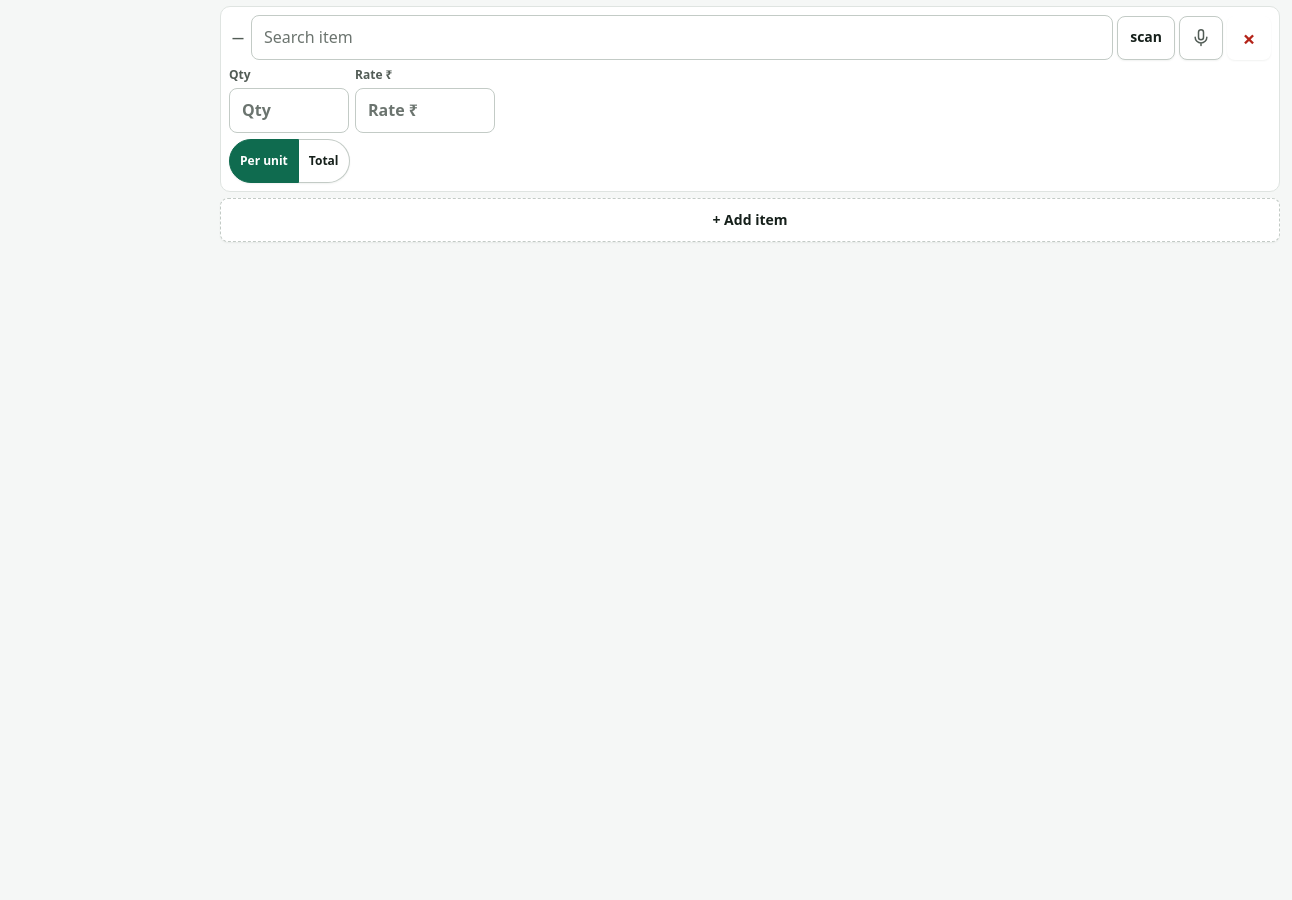
Test: + Create appears only for a name no item has; it opens a labelled form prefilled with that name
Type "item a" into the field with placeholder "Search item".
click(682, 38); type("item a")  # box [251,15,1113,60]
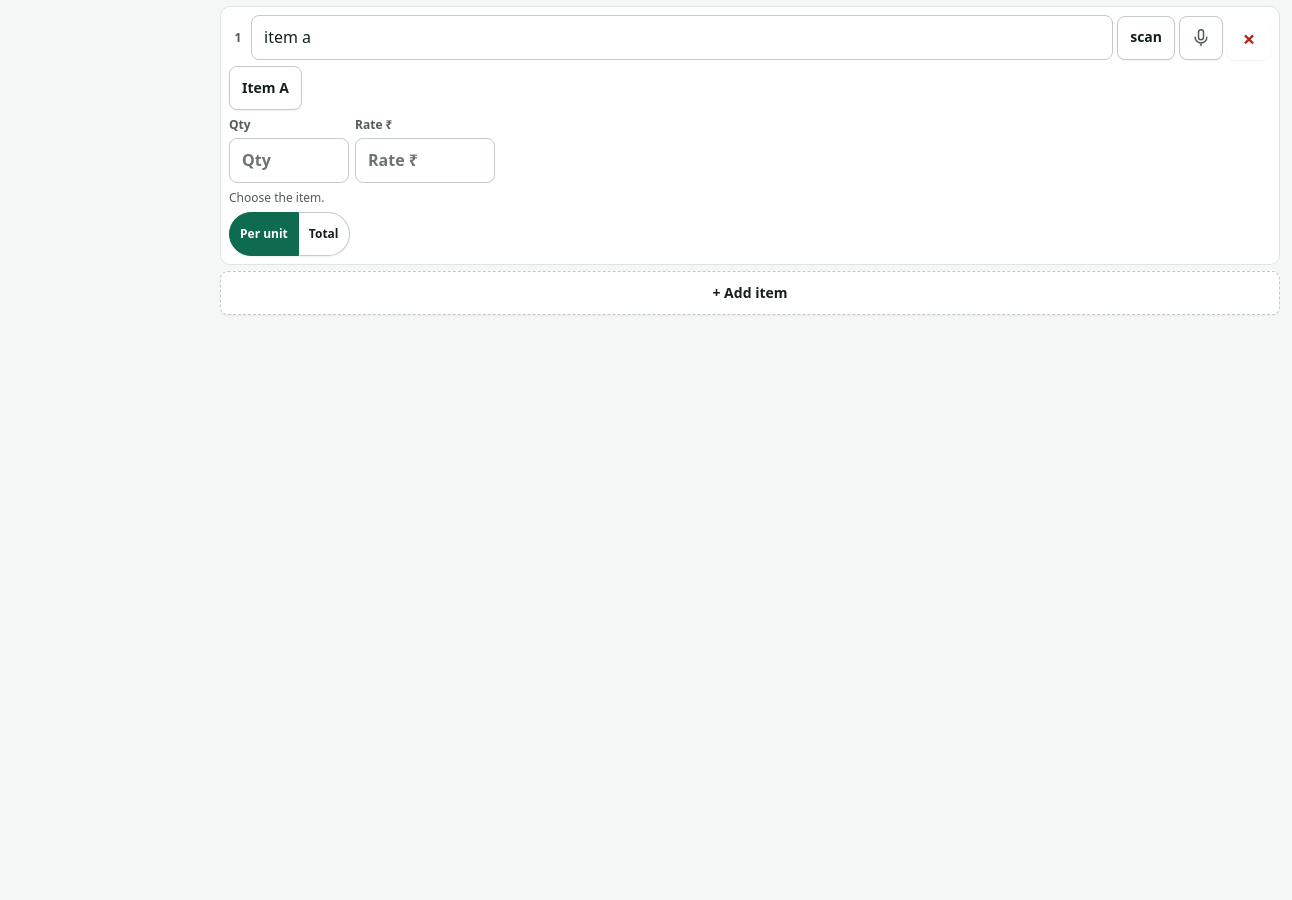
Check: the text "+ Create" is not shown
Replace the text in the field named "Item 1 name" with "Item" at (682, 38), box [251,15,1113,60]
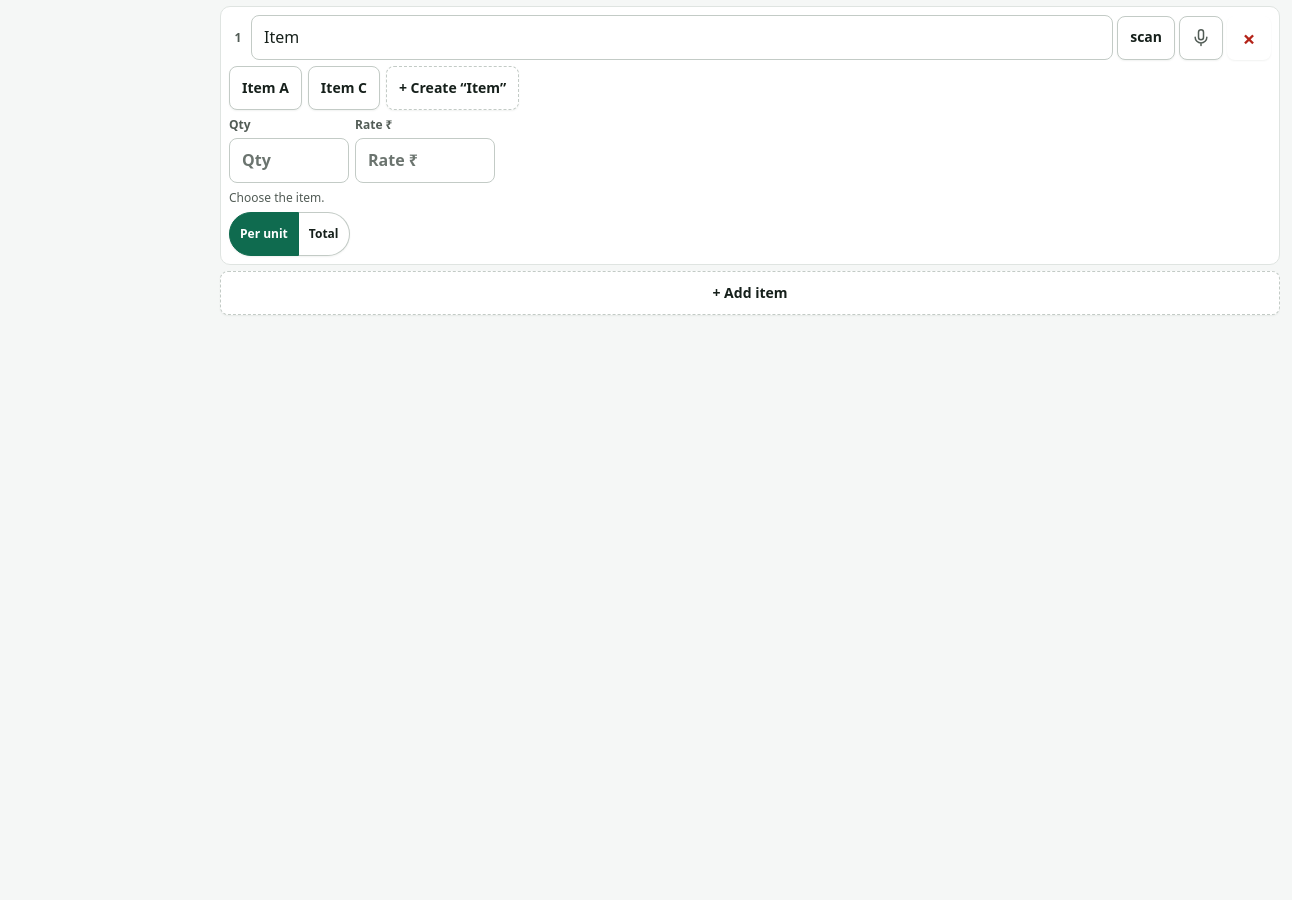
Check: the button "+ Create “Item”" is shown, box [386,66,519,110]
Replace the text in the field named "Item 1 name" with "Basmati 5kg " at (682, 38), box [251,15,1113,60]
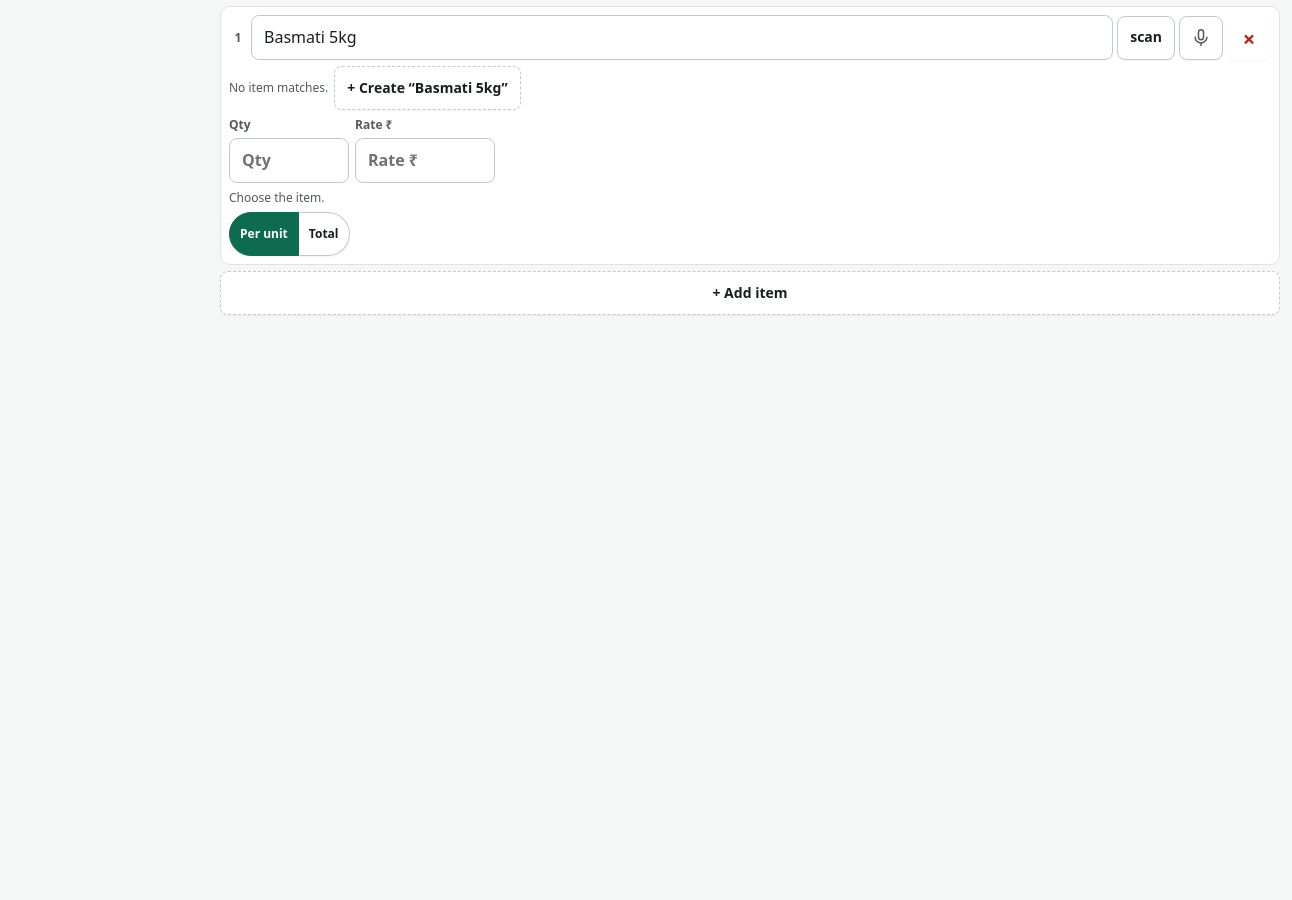
Click the button "+ Create “Basmati 5kg”".
click(427, 88)  # box [334,66,521,110]
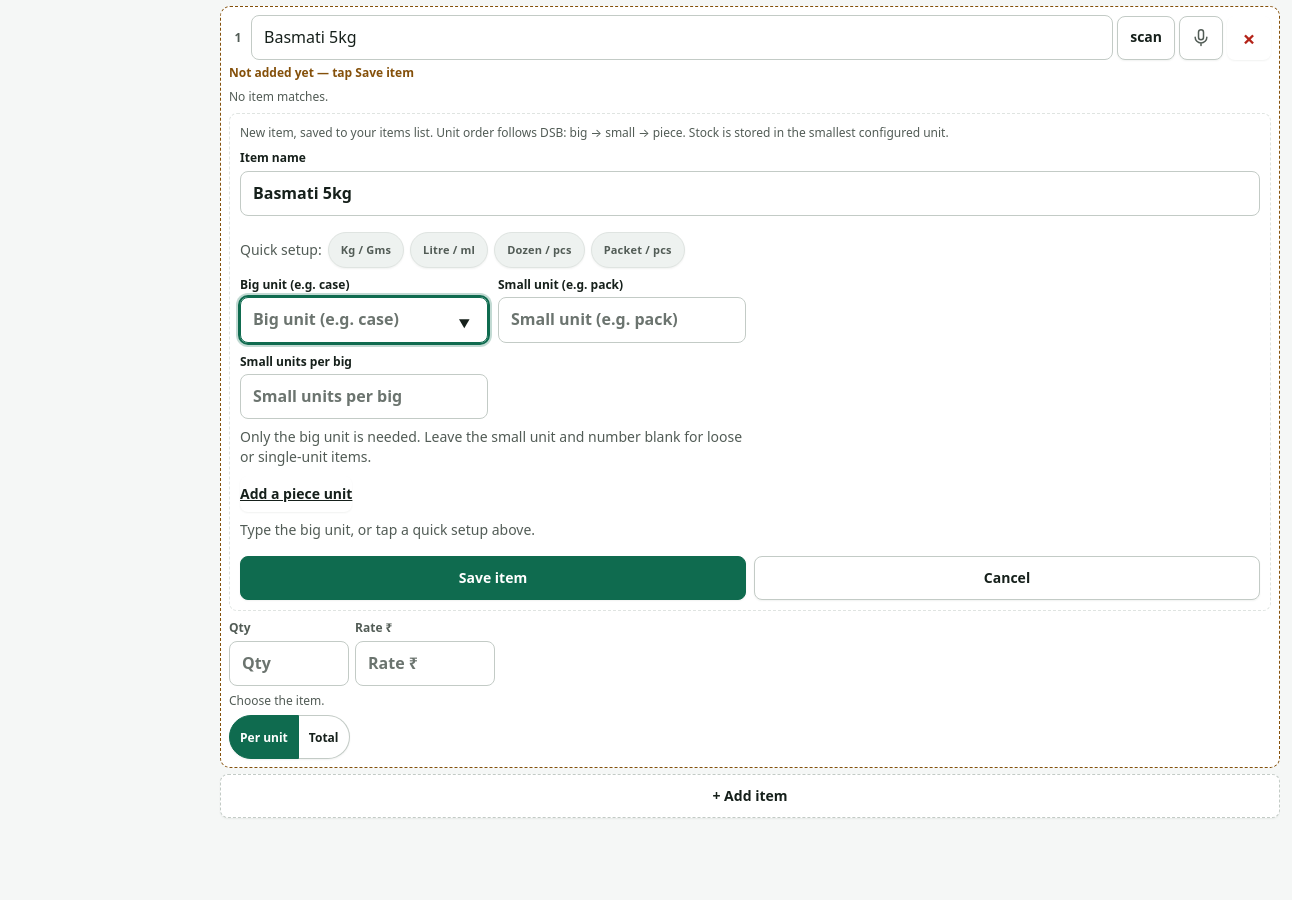
Check: the element named "New item for item 1" shows "Unit order follows DSB: big → small → piece. Stock is stored in the smallest configured unit.", box [436,124,949,141]
